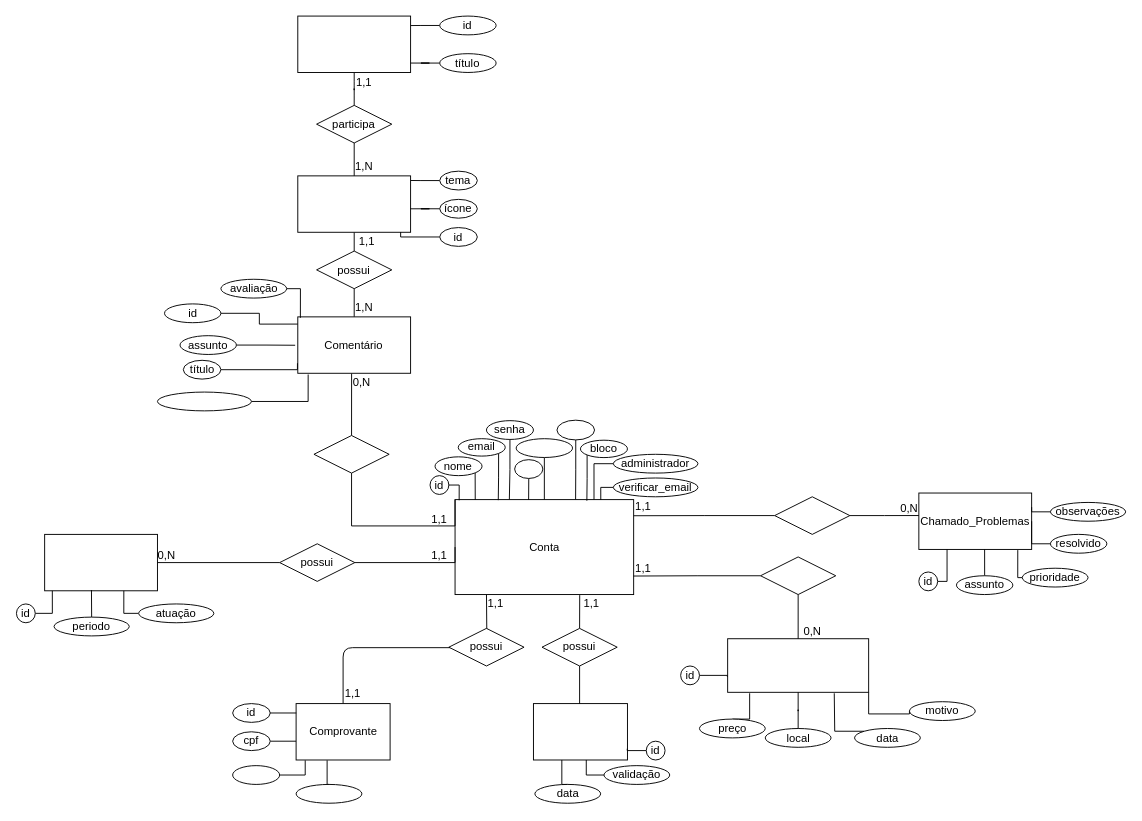
Image size: 1142x821. Some labels were removed from this diagram. Each missing label, with the box of its shape:
abre: (774, 496, 850, 534)
AP: (514, 459, 543, 478)
Categoria: (297, 15, 411, 72)
Contabilidade_Condominio: (727, 638, 869, 692)
data_publicação: (157, 391, 251, 411)
documento: (295, 783, 362, 803)
foto: (556, 419, 595, 440)
informa: (760, 556, 836, 595)
Periodo_Gestao: (44, 533, 157, 591)
publica: (313, 435, 389, 473)
Recuperação: (533, 703, 627, 760)
rg: (232, 765, 280, 784)
Tópico: (297, 175, 411, 232)
verificado: (515, 438, 573, 457)
